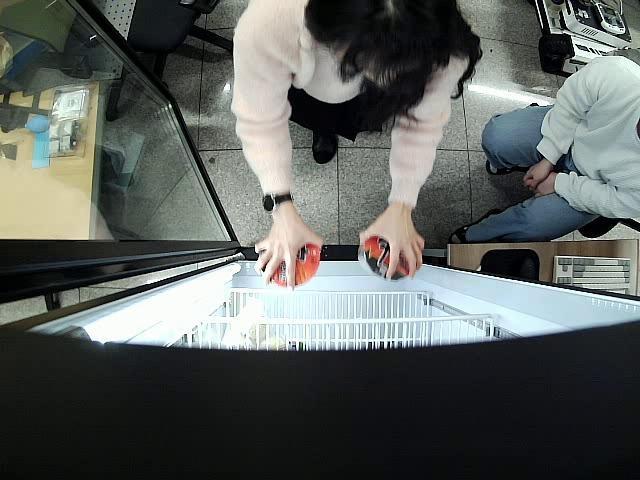01_ShinRamen_L: (260, 242, 321, 288), (362, 236, 418, 280)
